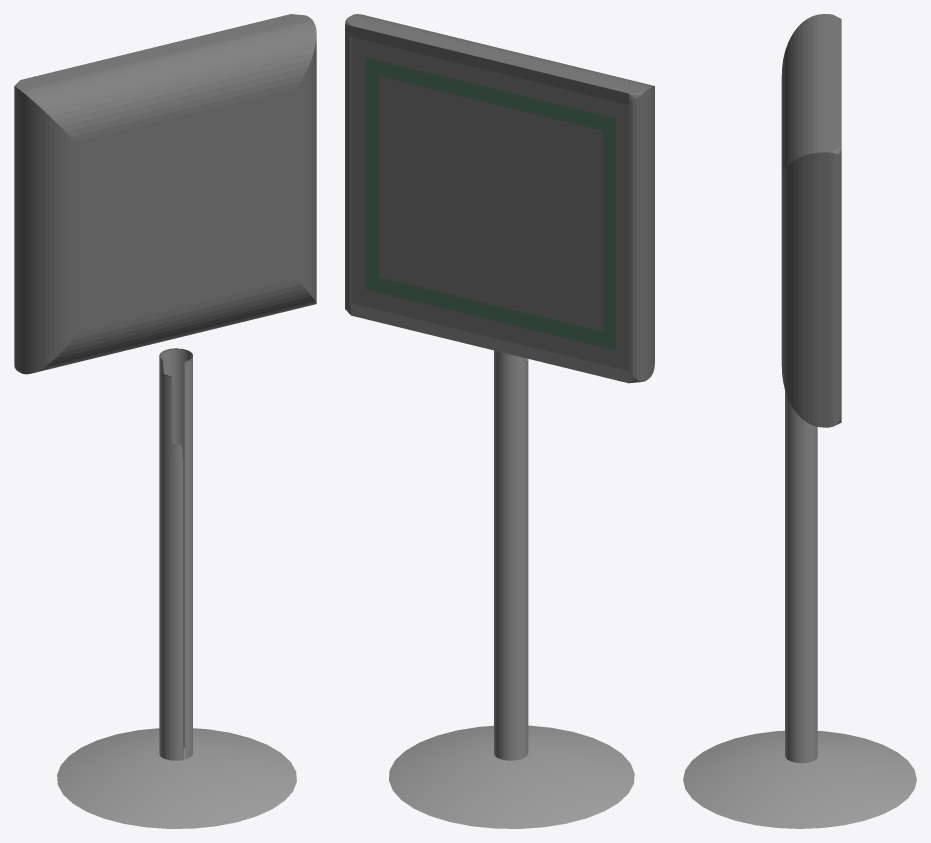
Rendered from monitor.fbx.
3 renders of one model, left to right at view 1: azimuth 30°, elevation 25°; view 2: azimuth 150°, elevation 25°; view 3: azimuth 270°, elevation 25°, orthographic. The views are drawn at different scales.
Visible parts, largest first — view 1: Куб.002, Cone, Cylinder; view 2: Куб.002, Cone, Cylinder; view 3: Куб.002, Cone, Cylinder.
Part boxes in pixels (x1,y1,x2,y2): Куб.002: [14, 14, 316, 374]; Cone: [57, 728, 296, 828]; Cylinder: [159, 348, 192, 760]; Куб.002: [345, 14, 654, 383]; Cone: [389, 725, 634, 828]; Cylinder: [494, 350, 528, 760]; Куб.002: [781, 14, 841, 427]; Cone: [683, 730, 916, 828]; Cylinder: [785, 390, 817, 763].
Bounding box in the file's own units: 280 × 657 × 200.
3 materials, 1 textured.
